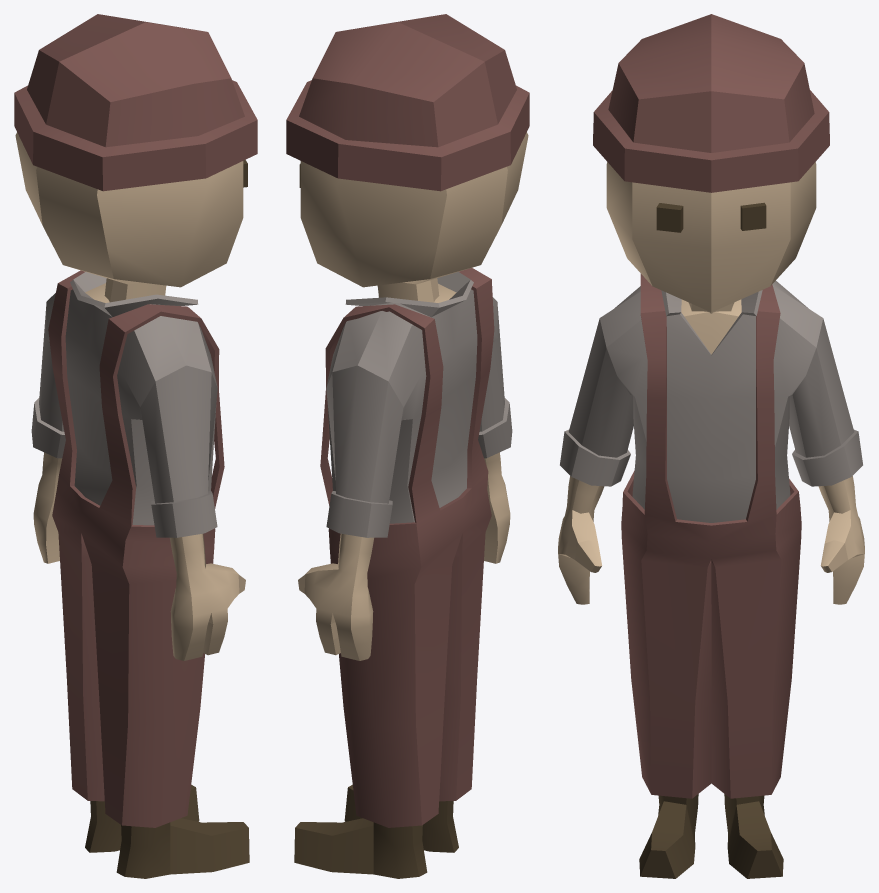
The model's file is Woodcutter.fbx.
3 views of the same model, side by side, from view 1: azimuth 30°, elevation 25°; view 2: azimuth 150°, elevation 25°; view 3: azimuth 270°, elevation 25° (orthographic). The views are drawn at different scales.
Visible parts, largest first — view 1: geo_Woodcutter; view 2: geo_Woodcutter; view 3: geo_Woodcutter.
Boxes of the visible parts, left/top/right/bottom form: geo_Woodcutter: left=14, top=14, right=257, bottom=878; geo_Woodcutter: left=286, top=14, right=529, bottom=878; geo_Woodcutter: left=558, top=14, right=864, bottom=878.
Size of the model in its own units: 0.478 by 1.86 by 0.6395.
